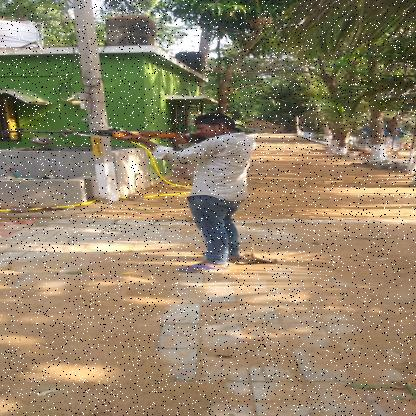rifle: (1, 127, 208, 145)
